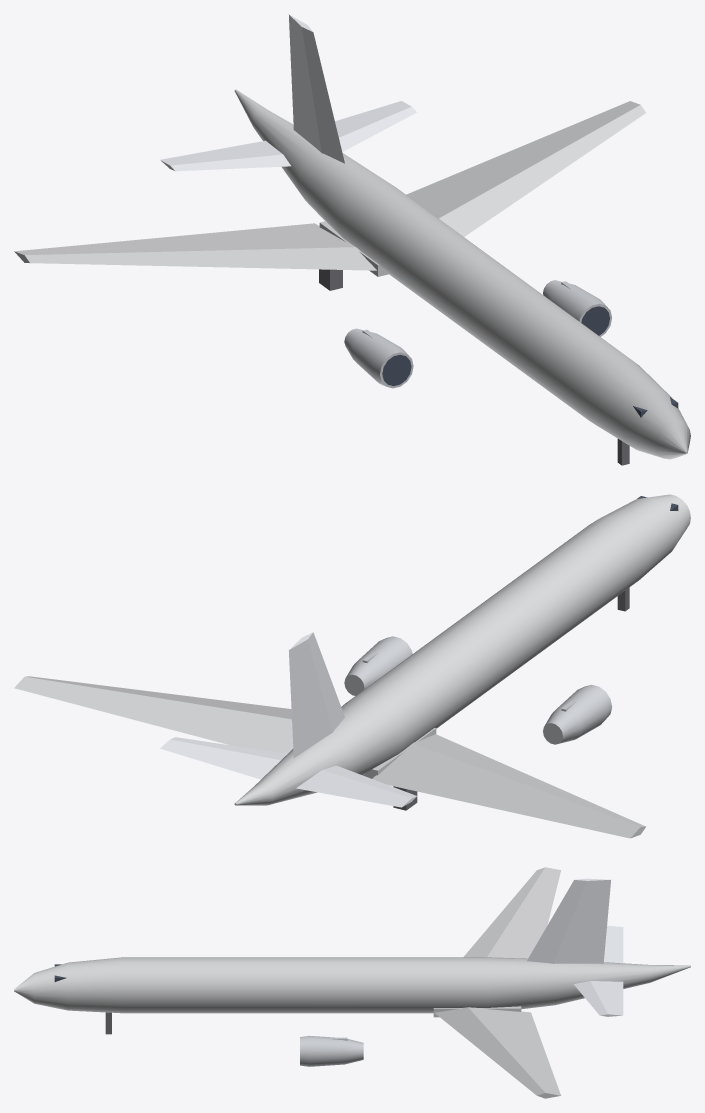
The model's file is regional.glb.
3 views of the same model, one above another, from view 1: azimuth 30°, elevation 25°; view 2: azimuth 150°, elevation 25°; view 3: azimuth 270°, elevation 25° (orthographic). The views are drawn at different scales.
Visible parts, largest first — view 1: aircraft; view 2: aircraft; view 3: aircraft.
Boxes of the visible parts, x1,y1,x2,y2 form: aircraft: (14, 14, 690, 465); aircraft: (14, 494, 690, 838); aircraft: (14, 867, 690, 1098).
Bounding box in the file's own units: 28.55 × 9.02 × 36.2.
